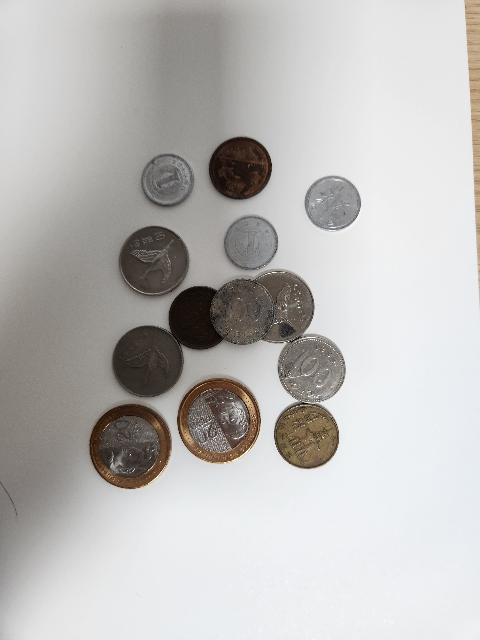coin: (177, 374, 263, 464), (89, 408, 173, 488), (277, 329, 347, 405), (246, 266, 314, 344), (112, 322, 183, 396), (117, 226, 192, 296), (272, 402, 342, 470), (210, 276, 272, 344), (210, 132, 268, 200), (169, 284, 226, 348), (306, 174, 360, 230), (224, 217, 278, 270), (146, 152, 194, 208)
